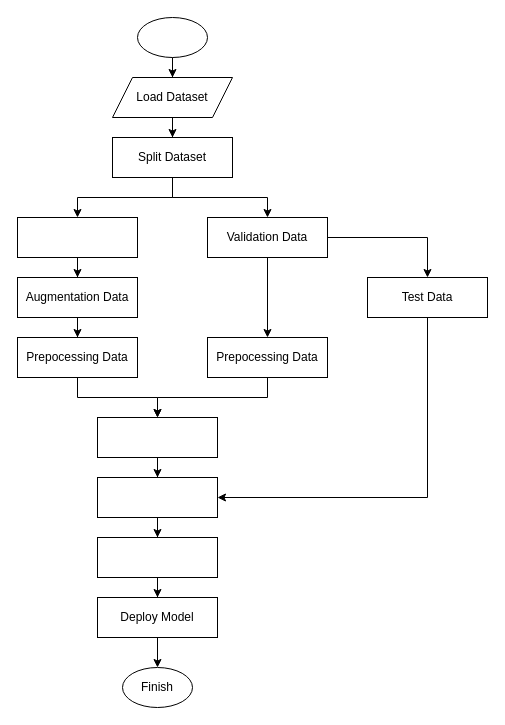
This 505x725 diagram has some shape labels left out. The box of each missing label's shape, as (x1, y1, x2, y2) in pixels:
Evaluation Model: (96, 476, 218, 518)
Save Model: (96, 536, 218, 578)
START: (136, 16, 208, 58)
Train Data: (16, 216, 138, 258)
Training Model: (96, 416, 218, 458)
